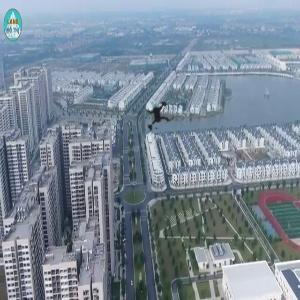drone: (129, 87, 191, 149)
